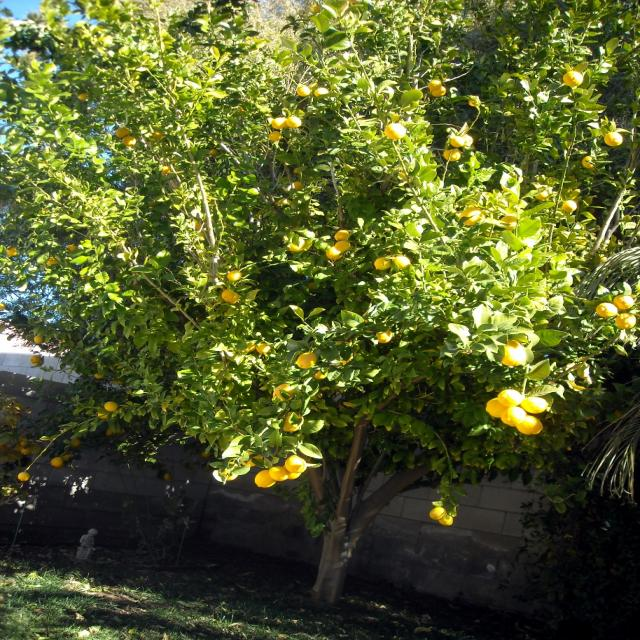lemon: (522, 393, 548, 415), (516, 416, 546, 435), (498, 386, 522, 409), (284, 454, 309, 474), (564, 68, 586, 88), (254, 469, 275, 489)
